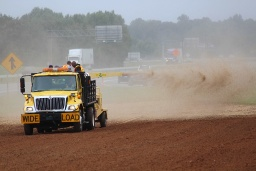truck: (18, 60, 111, 135)
